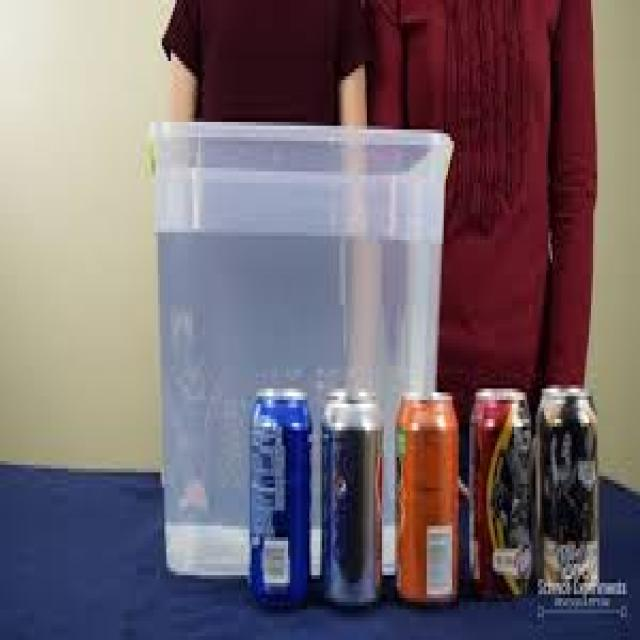Cans: (393, 381, 465, 617), (465, 385, 538, 613), (535, 381, 608, 602), (320, 385, 388, 621), (245, 385, 314, 617)
